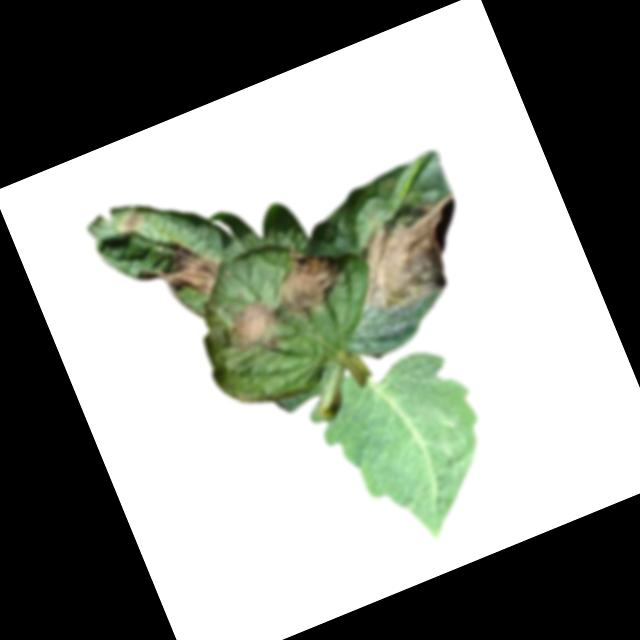Late_blight: (334, 191, 486, 323), (257, 231, 359, 332), (140, 227, 231, 313), (215, 293, 292, 367), (114, 209, 148, 237)
